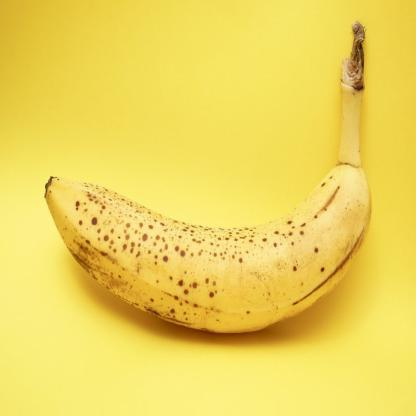banana: (36, 17, 384, 356)
